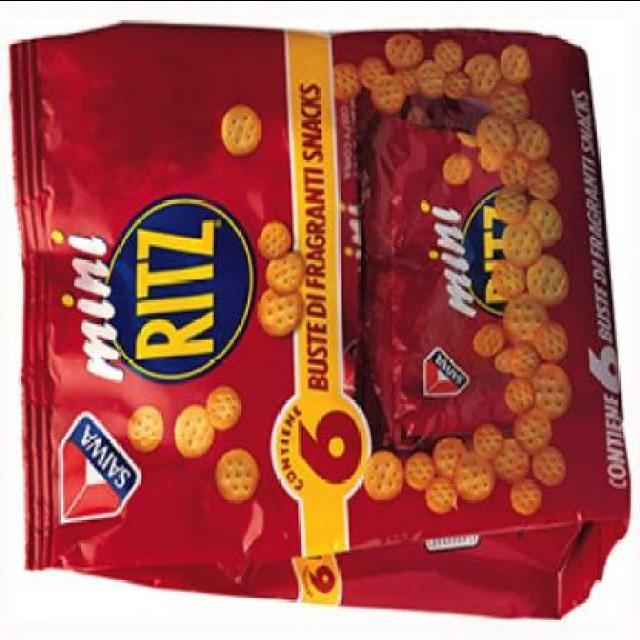Ritz cracker: (6, 13, 632, 619)
